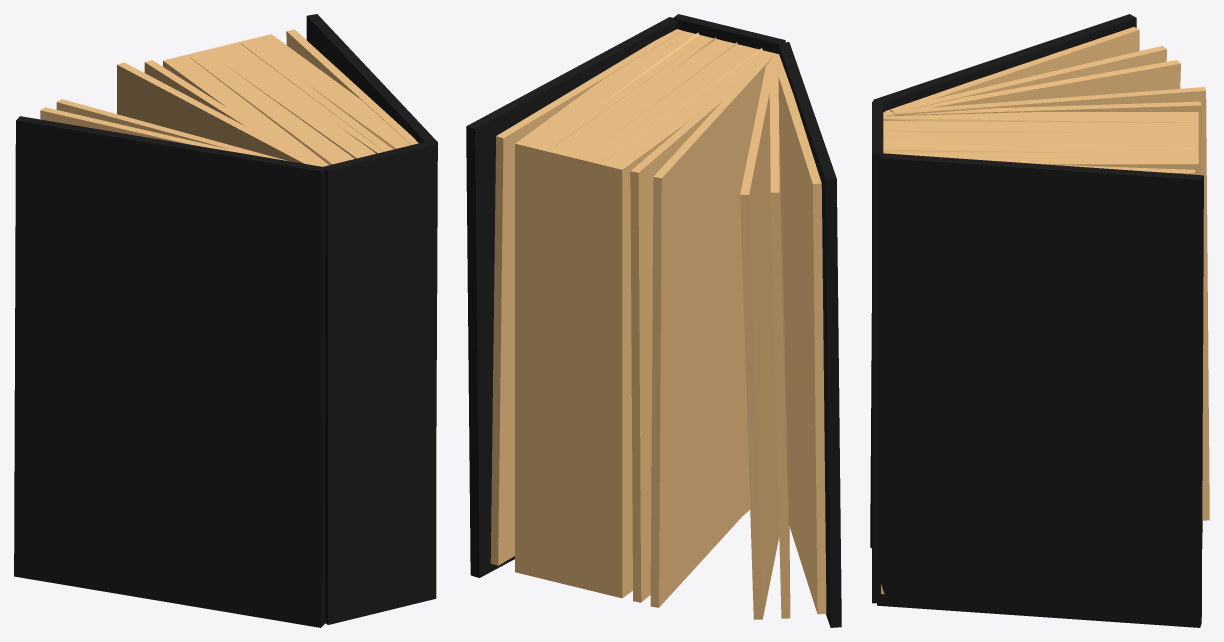
Rendered from open book.glb.
3 views of the same model, side by side, from view 1: azimuth 30°, elevation 25°; view 2: azimuth 150°, elevation 25°; view 3: azimuth 270°, elevation 25° (orthographic).
Visible parts, largest first — view 1: group453196978, group764487084, group1732650196, group2036730511, group1485198180, group1701123784, group952449271, group1392937841, group1987728097; view 2: group1732650196, group2036730511, group1388995078, group1485198180, group952449271, group1701123784, group1987728097, group453196978, group1392937841, group764487084; view 3: group1485198180, group1732650196, group2036730511, group952449271, group453196978, group1388995078, group764487084, group1392937841, group1987728097, group833298882, group1701123784, group1151146375.
Boxes of the visible parts, left/top/right/bottom form: group453196978: left=14, top=116, right=325, bottom=627; group764487084: left=322, top=140, right=436, bottom=624; group1732650196: left=163, top=34, right=410, bottom=166; group2036730511: left=117, top=62, right=321, bottom=166; group1485198180: left=306, top=14, right=437, bottom=426; group1701123784: left=286, top=29, right=418, bottom=144; group952449271: left=56, top=99, right=287, bottom=160; group1392937841: left=40, top=107, right=257, bottom=155; group1987728097: left=144, top=60, right=307, bottom=158; group1732650196: left=515, top=31, right=778, bottom=598; group2036730511: left=650, top=54, right=773, bottom=607; group1388995078: left=776, top=54, right=826, bottom=614; group1485198180: left=466, top=17, right=676, bottom=577; group952449271: left=740, top=62, right=779, bottom=619; group1701123784: left=490, top=29, right=682, bottom=565; group1987728097: left=630, top=52, right=776, bottom=602; group453196978: left=778, top=42, right=841, bottom=627; group1392937841: left=769, top=55, right=790, bottom=618; group764487084: left=672, top=14, right=785, bottom=53; group1485198180: left=877, top=153, right=1203, bottom=627; group1732650196: left=883, top=112, right=1198, bottom=174; group2036730511: left=893, top=87, right=1209, bottom=520; group952449271: left=914, top=60, right=1180, bottom=108; group453196978: left=870, top=14, right=1136, bottom=548; group1388995078: left=884, top=27, right=1139, bottom=112; group764487084: left=872, top=101, right=883, bottom=603; group1392937841: left=890, top=46, right=1166, bottom=112; group1987728097: left=885, top=101, right=1202, bottom=532; group833298882: left=883, top=118, right=1191, bottom=122; group1701123784: left=881, top=164, right=1195, bottom=594; group1151146375: left=883, top=131, right=1140, bottom=133.
Bounding box in the file's own units: 0.3464 × 0.443 × 0.3013.
